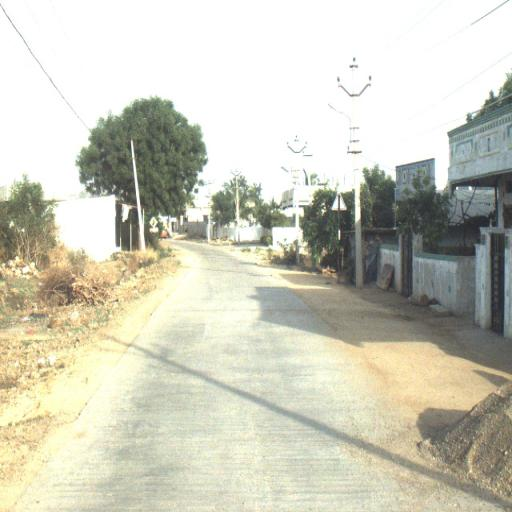street_light_0: (327, 102, 360, 146), (280, 166, 300, 188)
